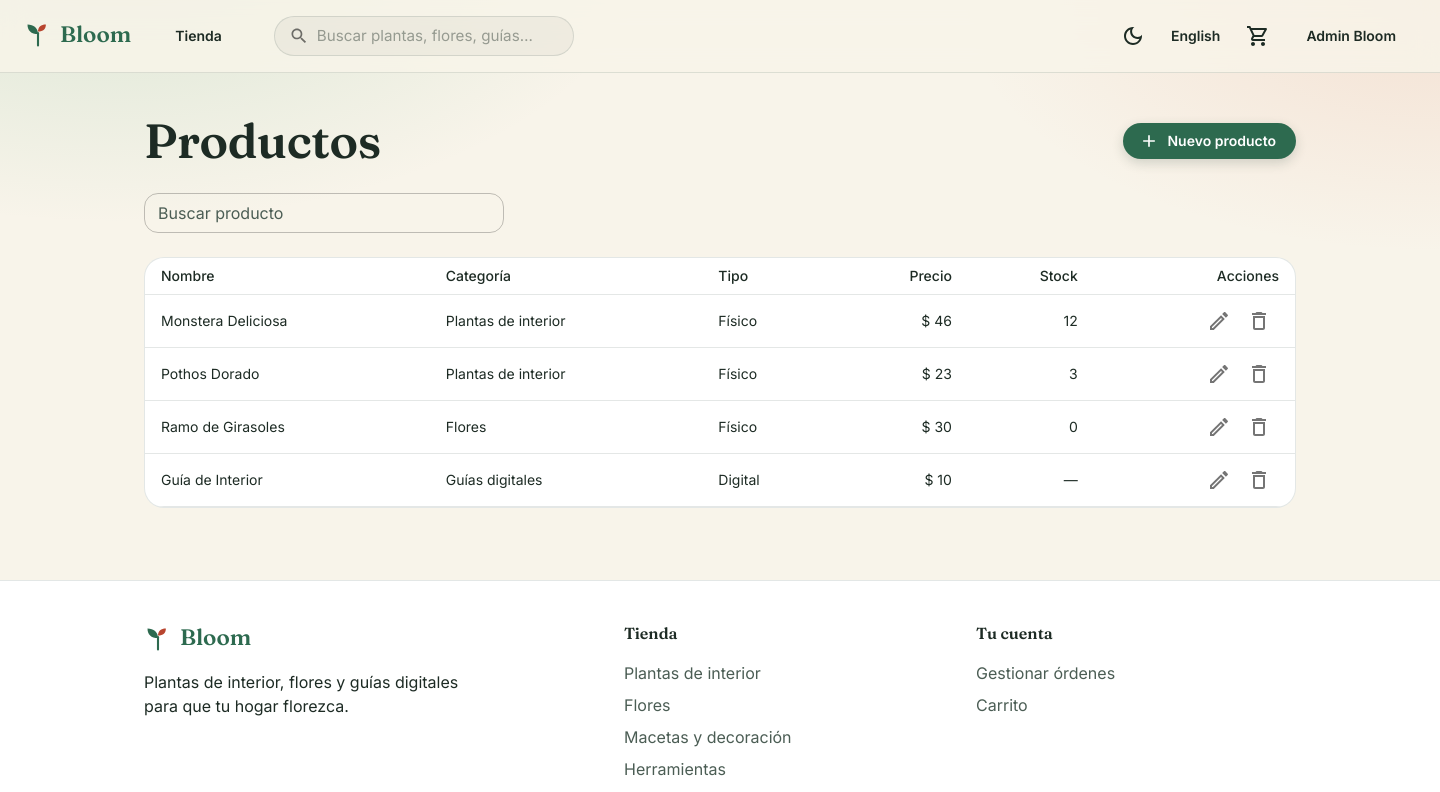
Test: AdminProductsPage › should_edit_a_product_sending_its_version
Click the button named "Editar Monstera Deliciosa". click: (1219, 321)
box: [1199, 301, 1239, 341]
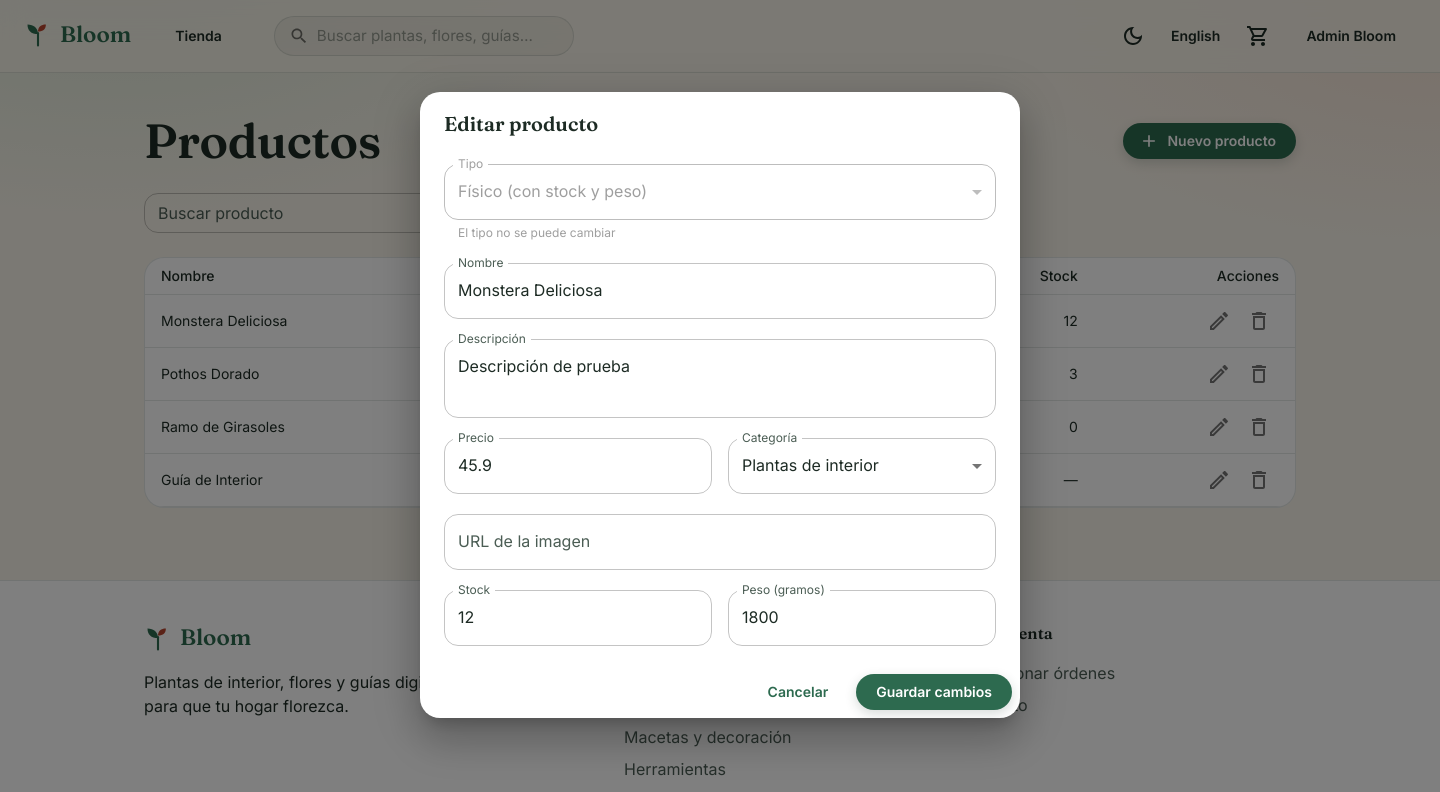
Now the field labelled "Nombre" holds "Monstera Deliciosa", box [444, 263, 996, 319]
Replace the text in the number field labelled "Precio" with "49.90". click: (578, 466)
box: [444, 438, 712, 494]
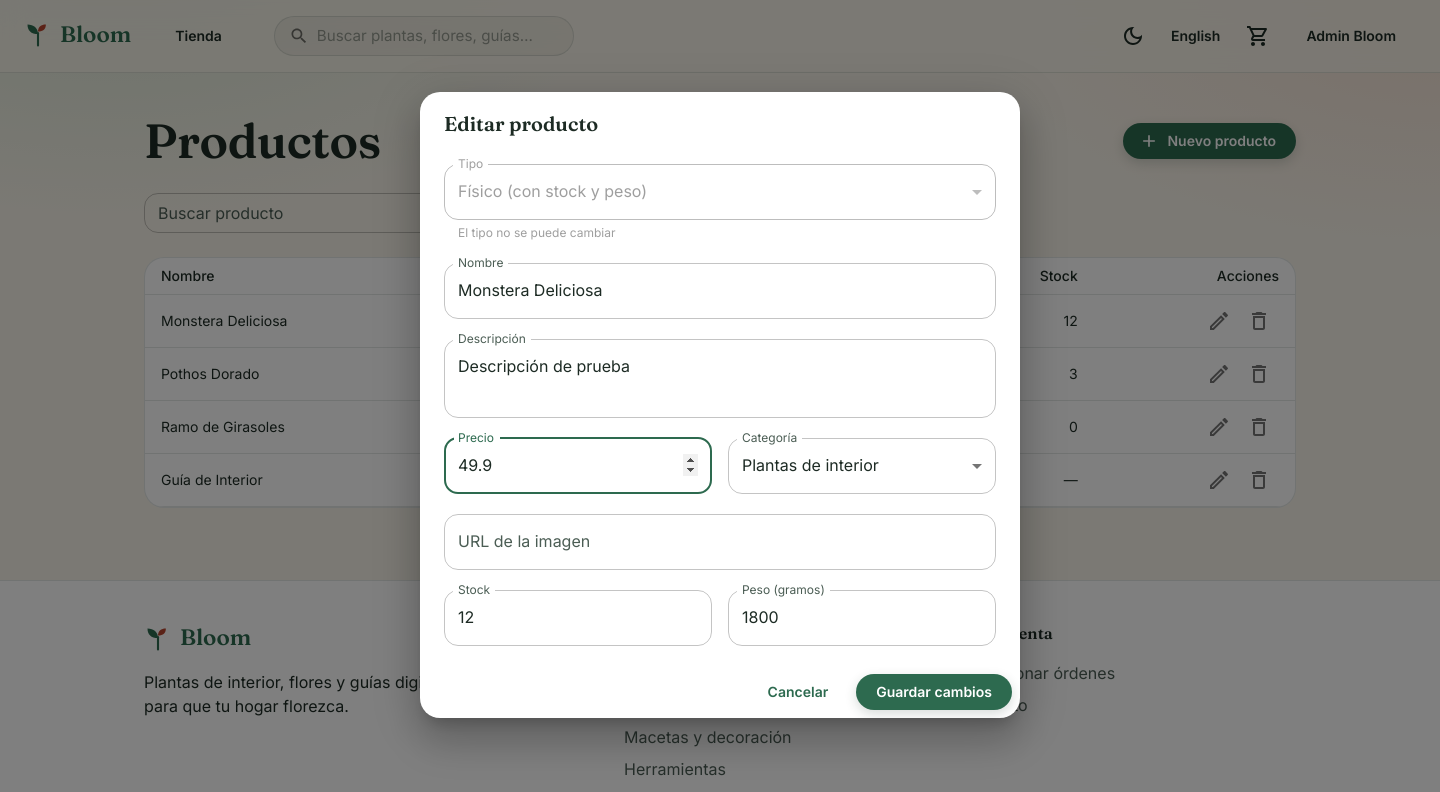
Click the button "Guardar cambios". click: (934, 692)
box: [856, 674, 1012, 710]
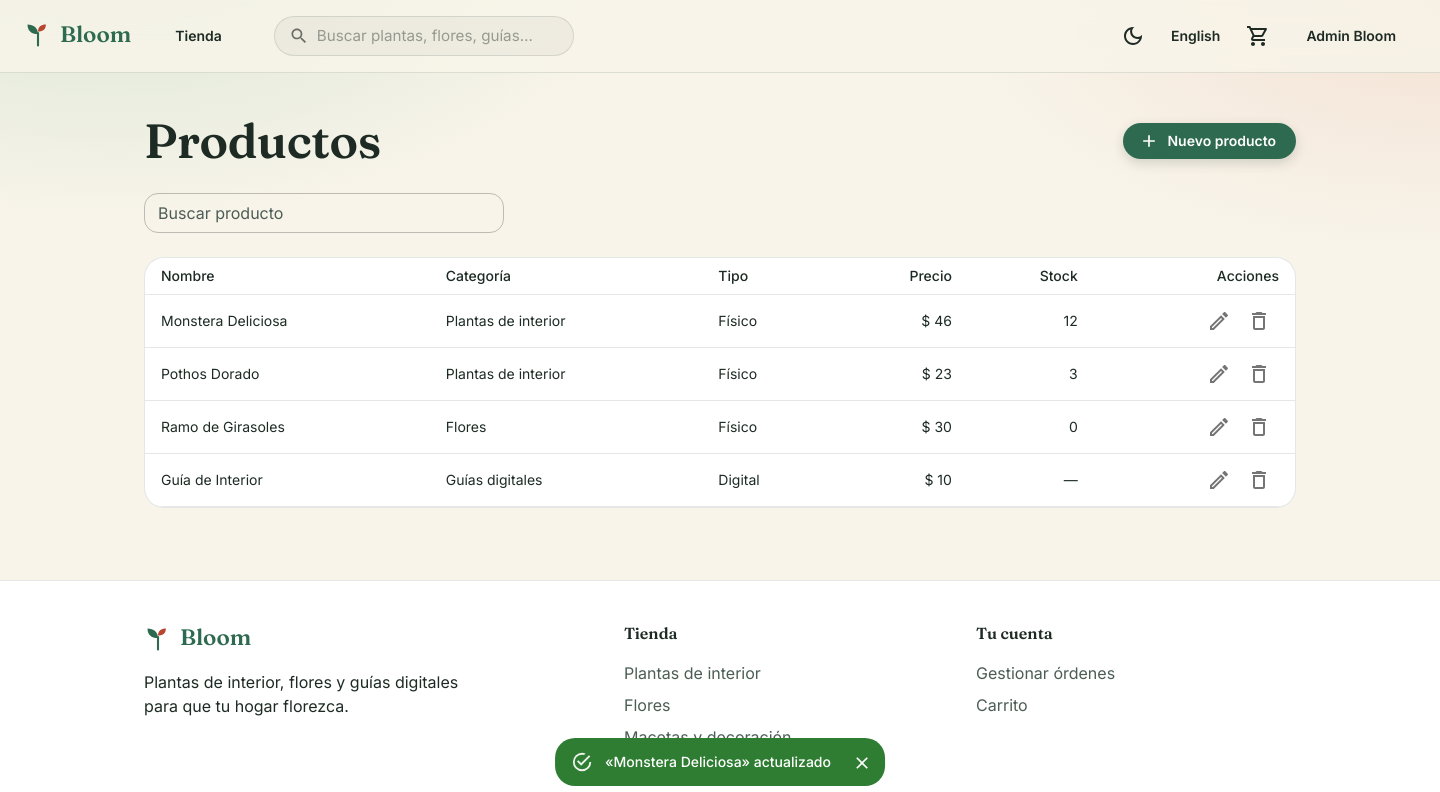
Now the text "«Monstera Deliciosa» actualizado" is shown, box [605, 753, 831, 770]
